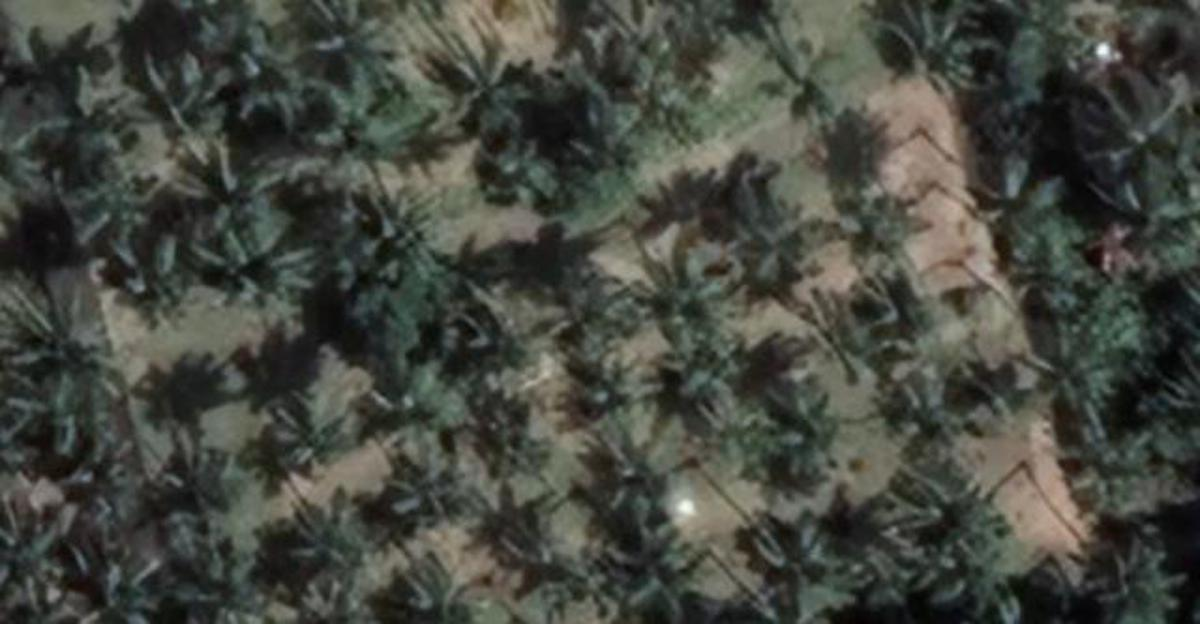coconut: (0, 290, 121, 402), (742, 498, 855, 610), (540, 320, 650, 430), (575, 412, 682, 524), (436, 41, 541, 153), (631, 243, 735, 354), (1020, 297, 1117, 414), (33, 43, 140, 148), (963, 151, 1074, 252), (65, 131, 159, 249), (645, 331, 746, 440), (1065, 389, 1164, 500), (1085, 524, 1194, 624), (256, 387, 375, 475), (753, 376, 851, 479), (178, 149, 285, 243), (894, 453, 997, 549), (219, 29, 320, 125), (555, 78, 650, 179), (301, 0, 406, 91), (746, 18, 849, 110), (885, 0, 984, 95), (489, 513, 586, 609), (371, 430, 465, 528), (438, 281, 545, 365), (0, 496, 76, 614), (163, 530, 262, 620), (151, 417, 240, 517), (735, 193, 825, 290), (885, 378, 975, 475), (271, 492, 371, 579), (937, 522, 1029, 616), (65, 543, 170, 624), (845, 179, 933, 273), (106, 215, 196, 305), (472, 387, 560, 479), (360, 170, 451, 258), (620, 534, 710, 622), (140, 52, 228, 136), (862, 267, 945, 356), (313, 78, 414, 149), (401, 552, 500, 624), (592, 0, 688, 74), (221, 213, 301, 299)
